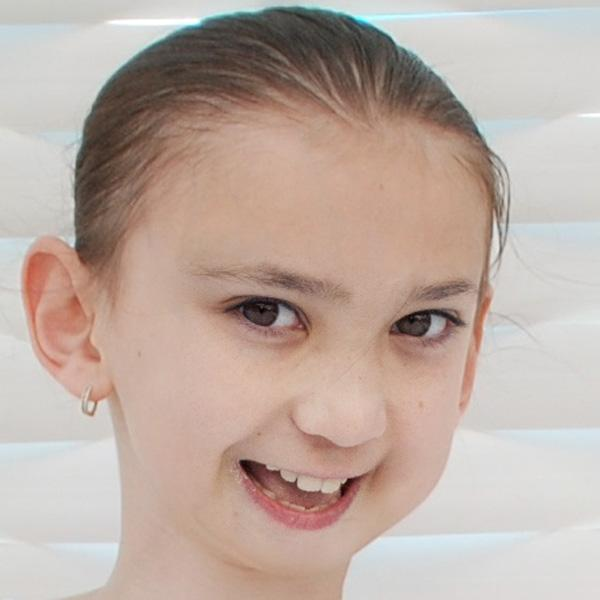Eyes: (213, 282, 317, 347), (384, 301, 468, 357)
